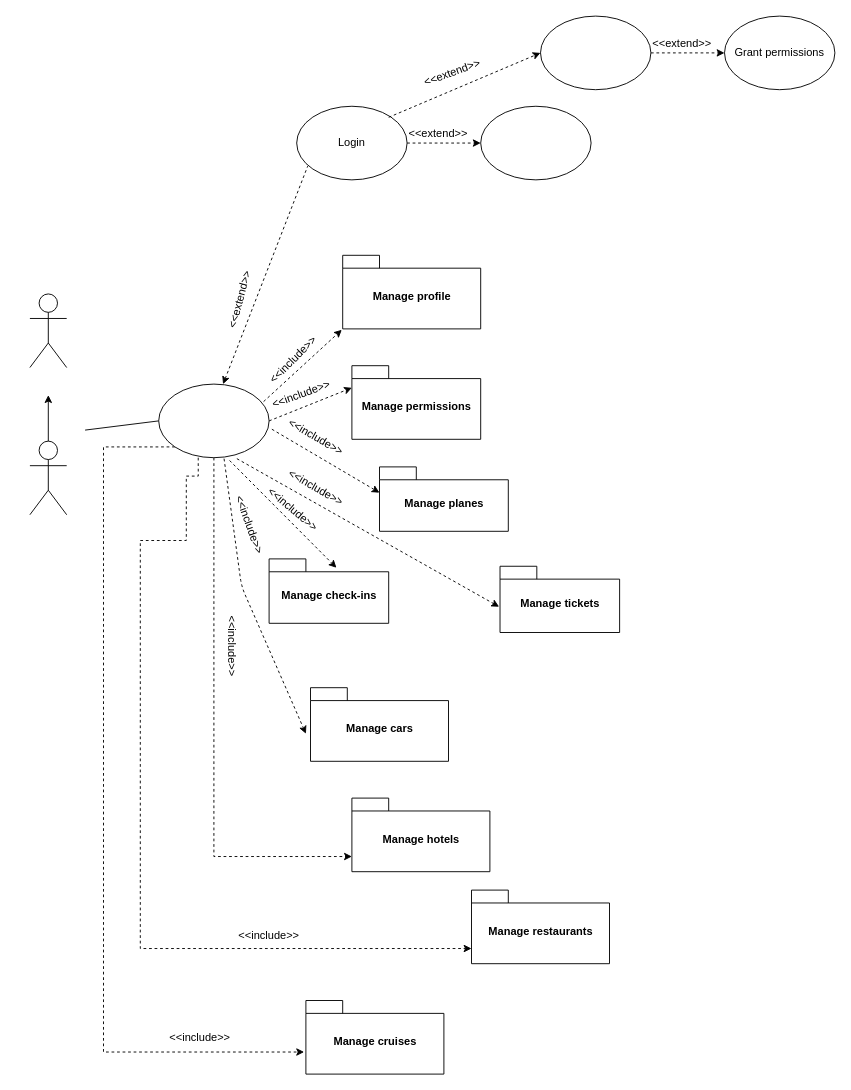
This 851x1090 diagram has some shape labels left out. The shapes that lost their labels are listed below. From the top down, each one's centre as x and y in pixels, then its label:
At [595,52]: "Sign up".
At [535,142]: "Reset password".
At [48,330]: "Provider".
At [213,420]: "Sign in".
At [48,477]: "Administrator".
